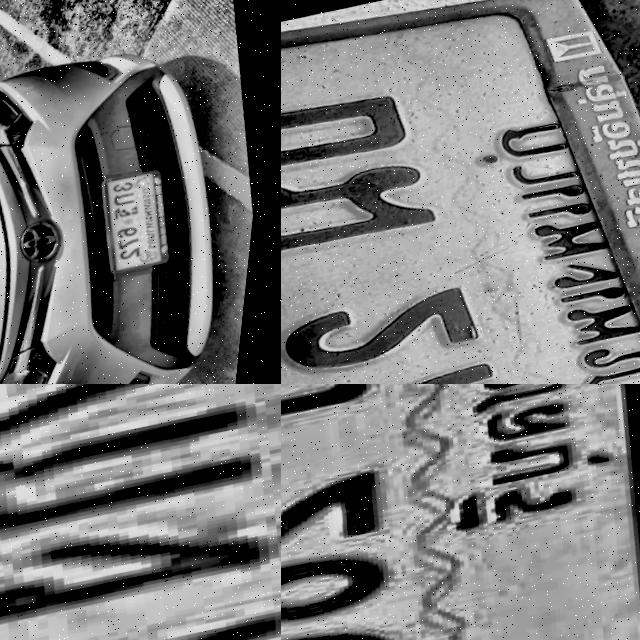license-plate: (281, 0, 640, 384), (281, 384, 640, 640), (0, 384, 281, 640), (96, 167, 190, 281)
